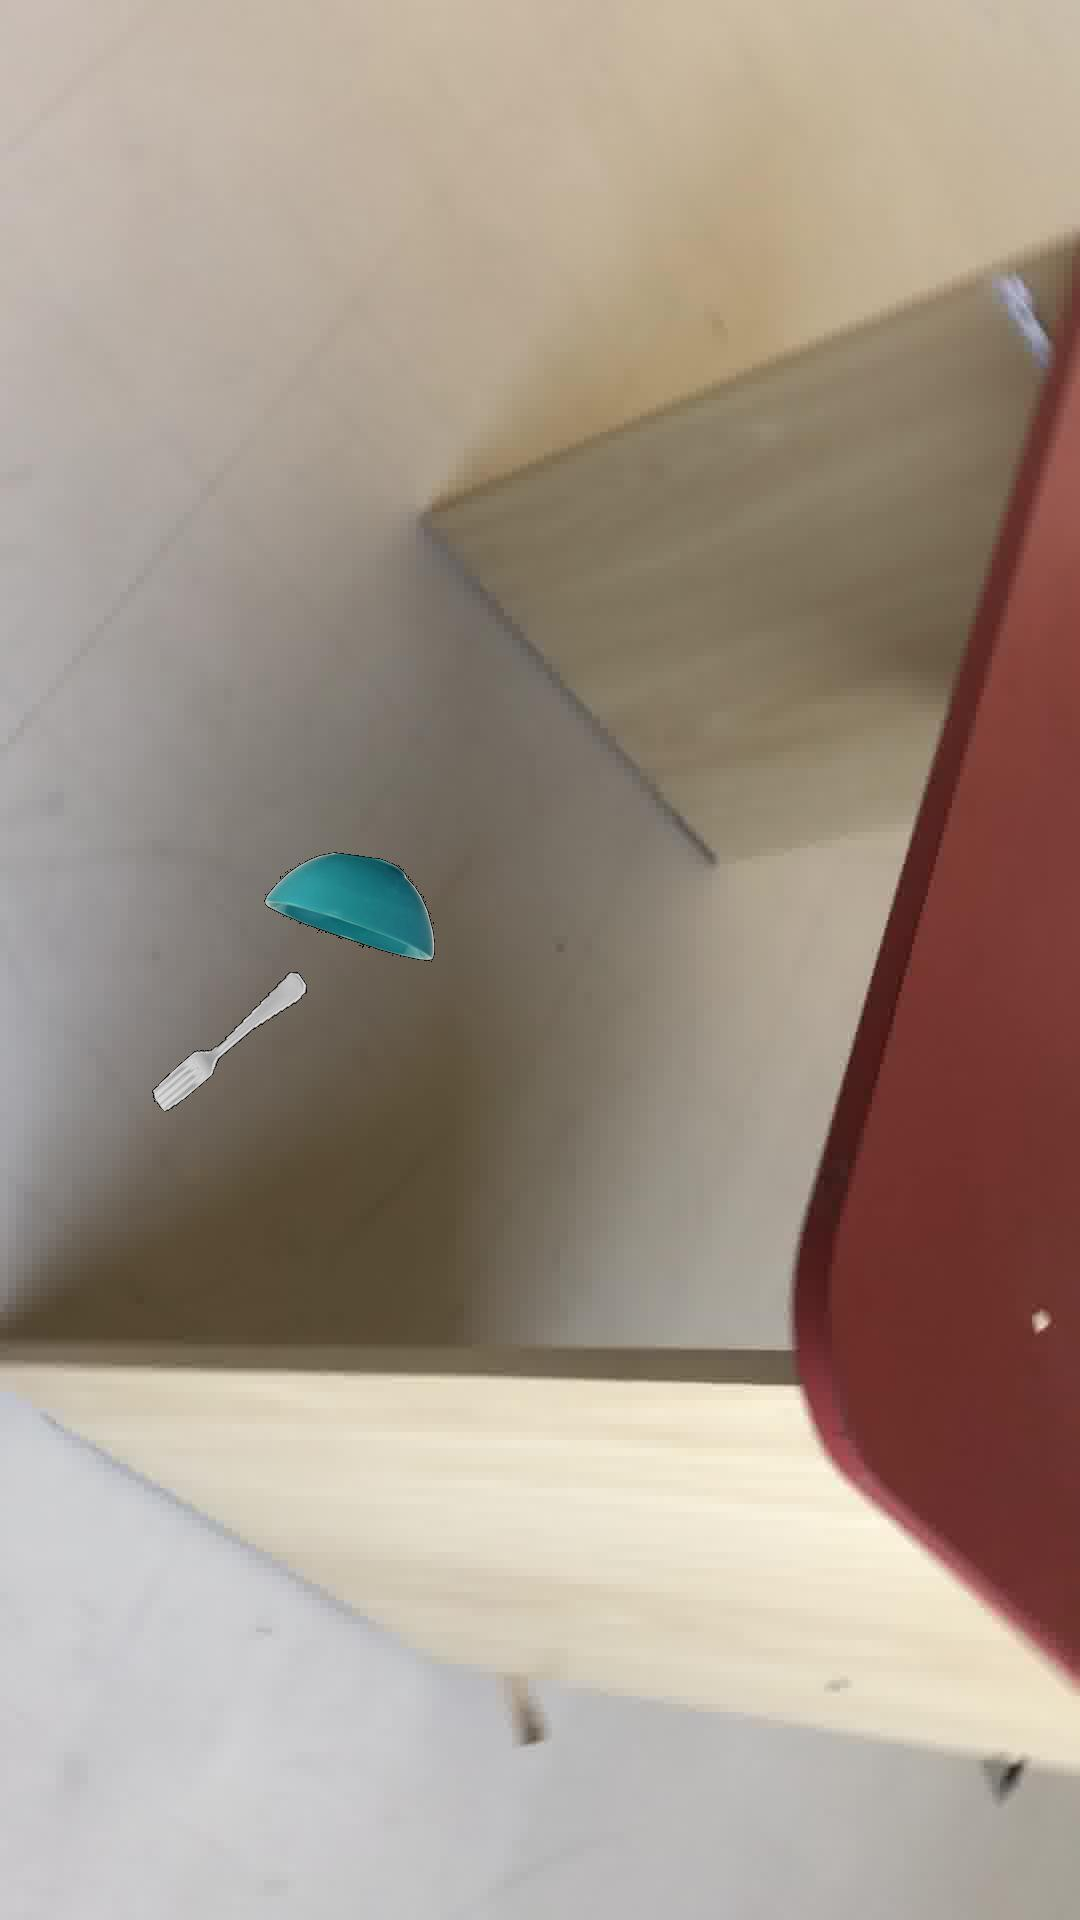bowl: (262, 851, 434, 960)
fork: (150, 971, 306, 1110)
